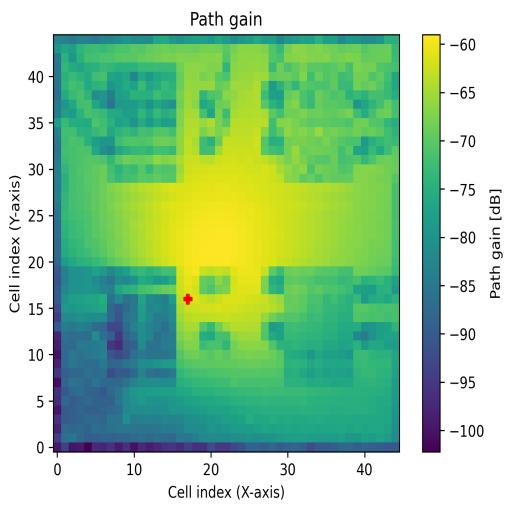Concrete: (283, 61, 353, 183)
Glass: (108, 64, 176, 184)
Metal: (284, 266, 354, 387)
Wood: (107, 266, 177, 389)
